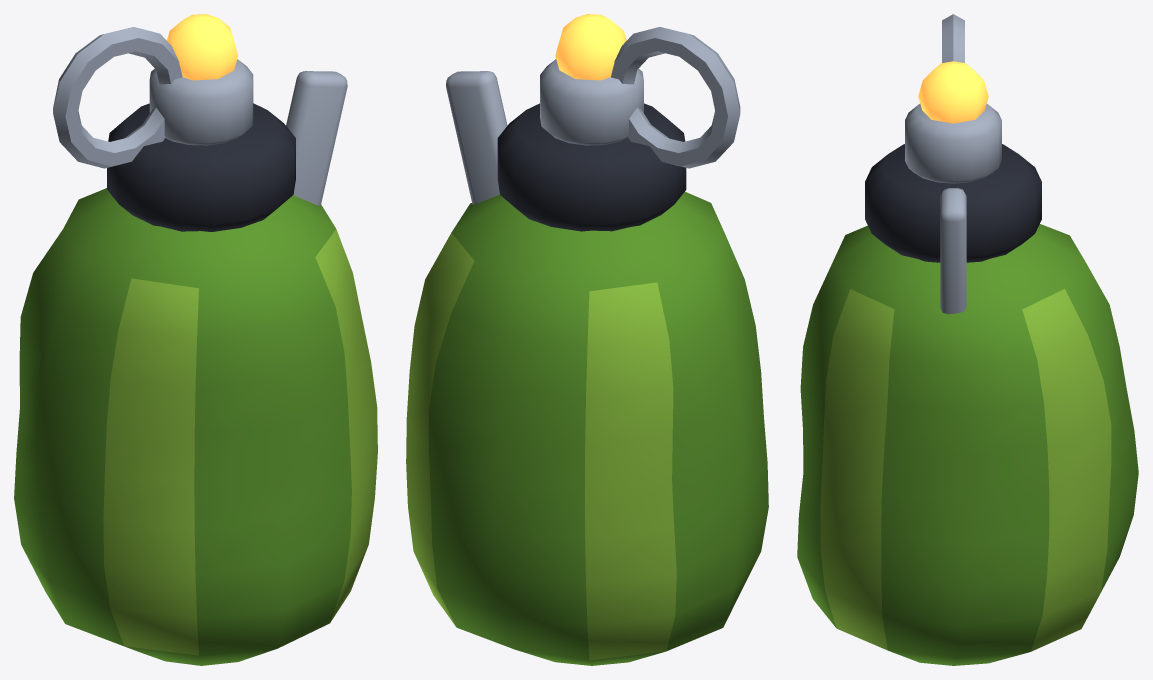
The model's file is bomb.glb.
The picture shows the model from 3 angles, left to right: view 1: azimuth 30°, elevation 25°; view 2: azimuth 150°, elevation 25°; view 3: azimuth 270°, elevation 25°; orthographic projection. The views are drawn at different scales.
Parts seen in each view (by area): view 1: Bomb; view 2: Bomb; view 3: Bomb.
Part boxes in pixels (bbox=[...]): Bomb: bbox=[14, 14, 377, 665]; Bomb: bbox=[406, 14, 768, 665]; Bomb: bbox=[797, 14, 1138, 665].
Size of the model in its own units: 0.1548 by 0.2896 by 0.1546.
